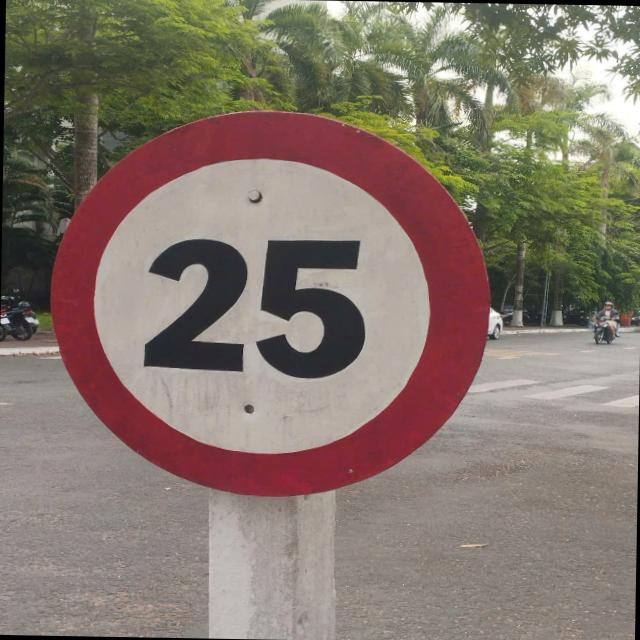Tre_Em: (46, 102, 498, 500)
